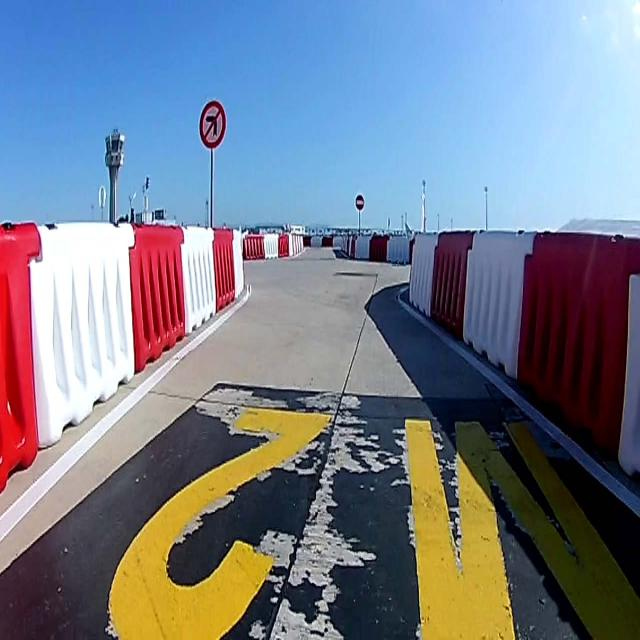girisyok: (354, 193, 366, 208)
soladonulmez: (198, 102, 224, 148)
